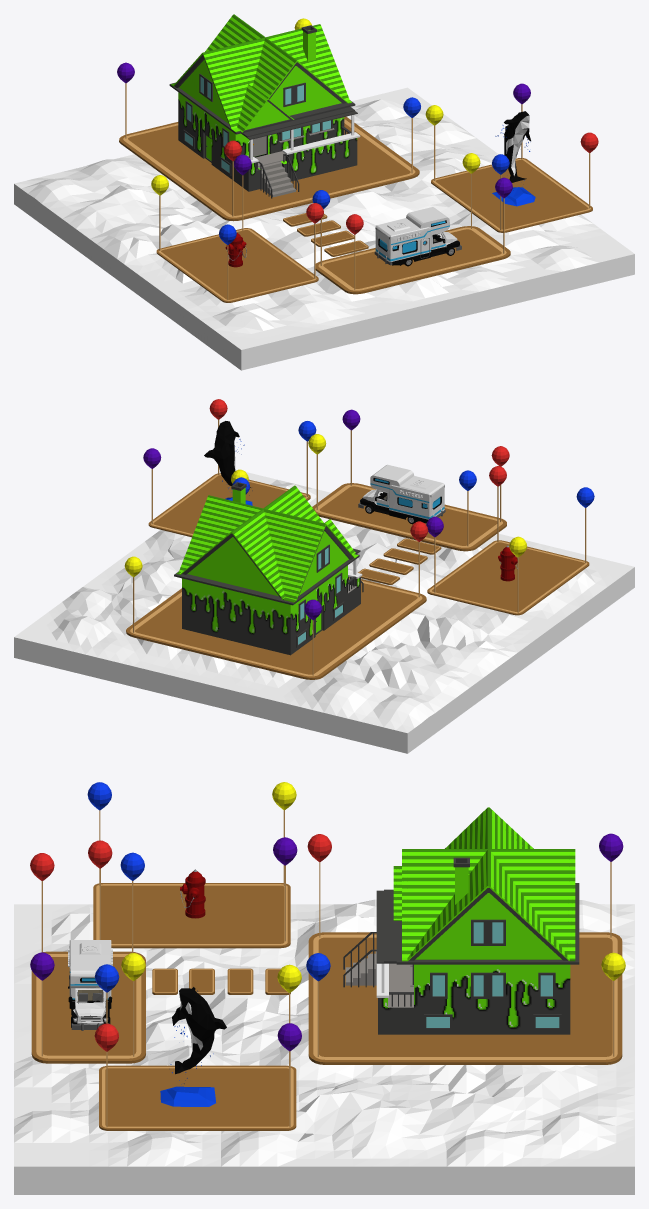
The picture shows the model from 3 angles, top to bottom: view 1: azimuth 30°, elevation 25°; view 2: azimuth 150°, elevation 25°; view 3: azimuth 270°, elevation 25°; orthographic projection. The views are drawn at different scales.
Visible parts, largest first — view 1: Cube.013, Cube.754, VEHICLES_CAMPER, ANIMAL_ORCA; view 2: Cube.013, Cube.754, VEHICLES_CAMPER, ANIMAL_ORCA, OBJRANDOM_FIRE_HYDRANT; view 3: Cube.013, Cube.754, VEHICLES_CAMPER, ANIMAL_ORCA, OBJRANDOM_FIRE_HYDRANT.
Boxes of the visible parts, x1,y1,x2,y2 form: Cube.013: (14,18,634,370); Cube.754: (169,14,360,198); VEHICLES_CAMPER: (374,207,461,266); ANIMAL_ORCA: (492,111,535,206); Cube.013: (14,399,634,753); Cube.754: (174,482,363,655); VEHICLES_CAMPER: (358,464,445,524); ANIMAL_ORCA: (204,421,252,505); OBJRANDOM_FIRE_HYDRANT: (498,545,517,581); Cube.013: (14,782,634,1194); Cube.754: (343,807,579,1034); VEHICLES_CAMPER: (68,940,112,1030); ANIMAL_ORCA: (160,987,226,1106); OBJRANDOM_FIRE_HYDRANT: (180,869,205,918).
Size of the model in its own units: 4000 by 1687 by 4000.
36 materials, 2 textured.
